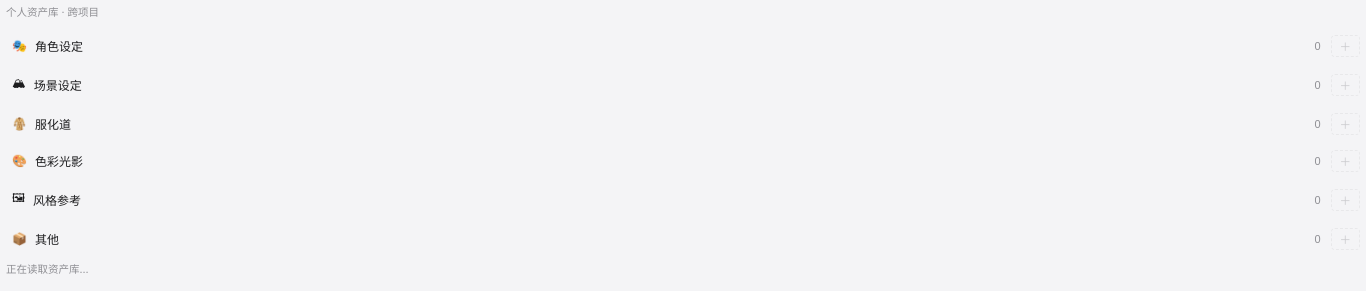
releases an unresolved thumbnail after its panel unmounts
Click the text "其他": (47, 238) [35,230,59,247]
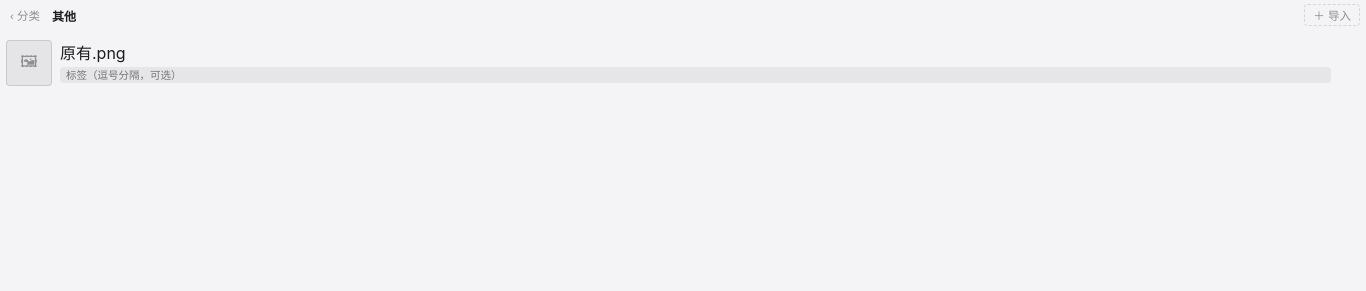
expect the button "原有.png" is shown: met, box [60,40,1331,64]
